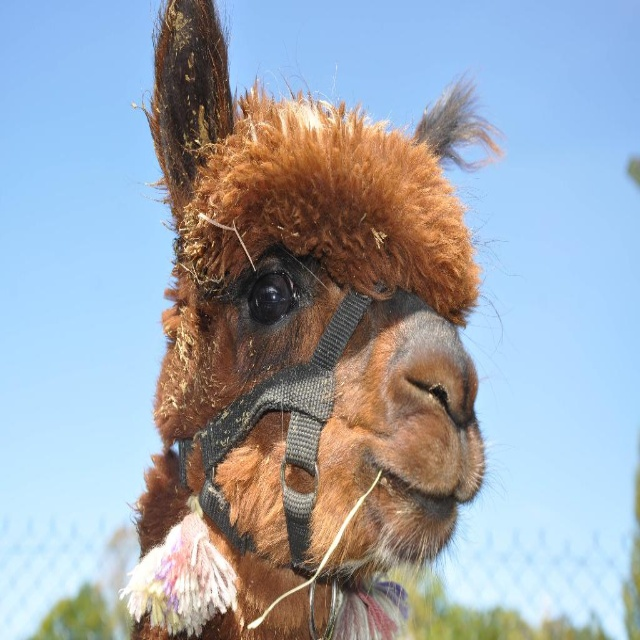Camel: (119, 0, 505, 640)
